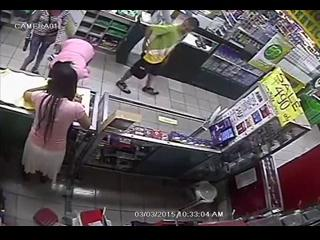Normal: (21, 64, 92, 192), (116, 16, 200, 96), (20, 11, 58, 74), (47, 38, 95, 81)
